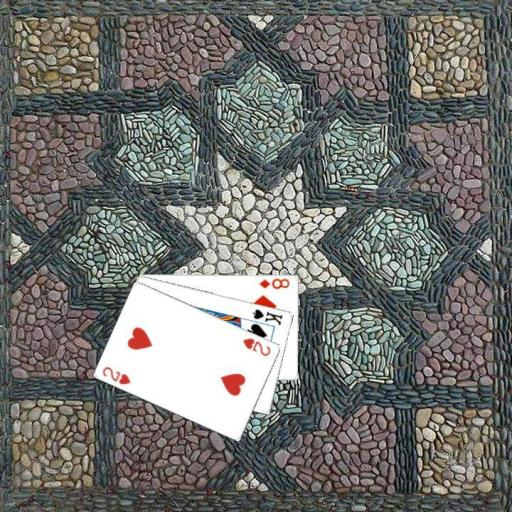2H: (240, 335, 272, 358), (100, 364, 132, 387)
8D: (256, 275, 291, 290)
KS: (250, 306, 285, 326)
